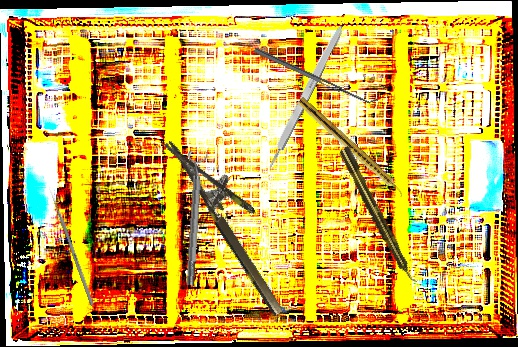Fixation Ring: (178, 150, 210, 287)
Handpiece: (294, 96, 408, 200), (337, 145, 419, 287)
Needle Holder: (164, 122, 308, 318)
Pusher: (47, 186, 95, 306)
Scalpel Handle: (264, 20, 347, 169)
Spatula Surgical: (253, 42, 379, 109)
